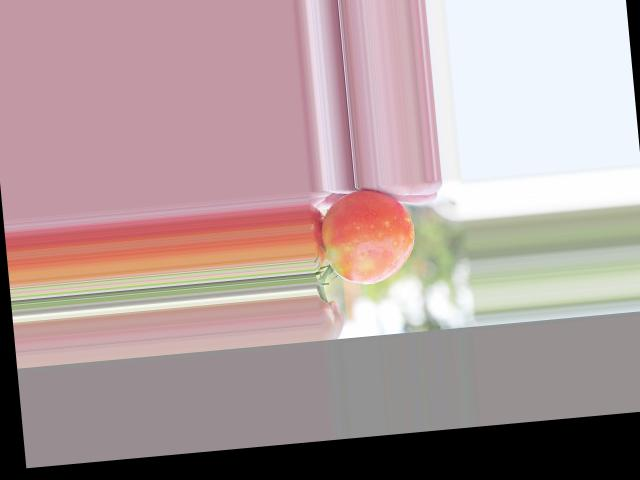tomato: (319, 186, 418, 287)
